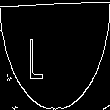L_N: (47, 29, 63, 81)
